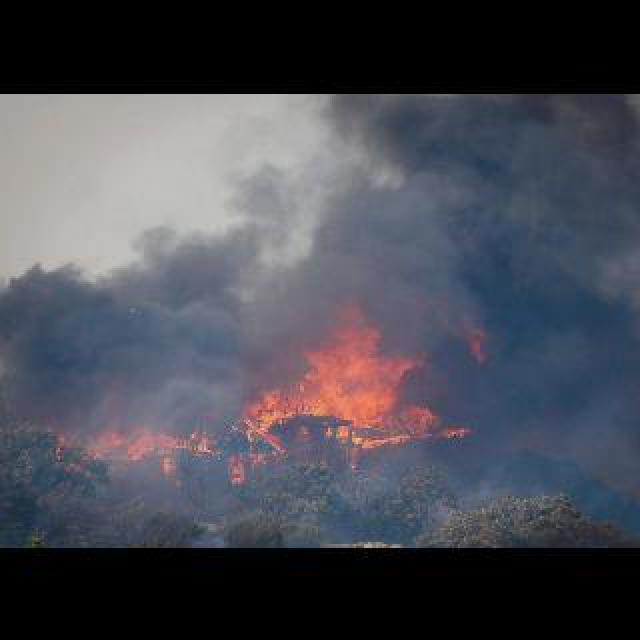Fire: (234, 290, 500, 454), (68, 414, 214, 462)
Smoke: (242, 92, 638, 320), (4, 200, 242, 424)
